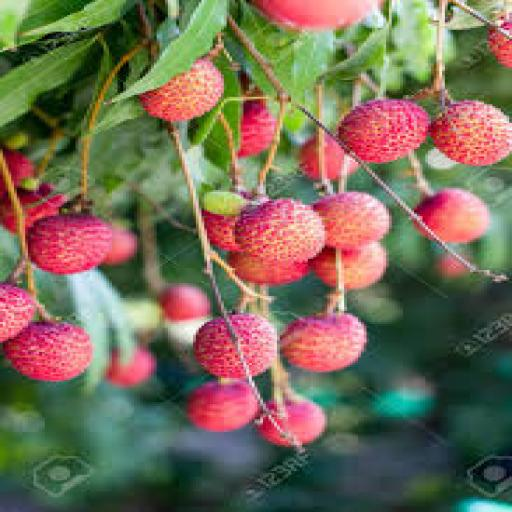lychee: (339, 99, 430, 161), (236, 200, 324, 262), (194, 313, 276, 379), (140, 58, 223, 121), (3, 323, 92, 381), (431, 101, 511, 165), (280, 313, 366, 372), (28, 215, 111, 273), (314, 192, 391, 249), (252, 0, 380, 31), (417, 189, 489, 243), (188, 380, 260, 431), (258, 399, 327, 446), (300, 136, 358, 180), (230, 254, 307, 286), (17, 185, 67, 229), (238, 101, 276, 158), (0, 283, 36, 342), (342, 243, 386, 288), (107, 347, 156, 387), (160, 283, 209, 322), (202, 211, 240, 251), (104, 228, 137, 266), (3, 149, 36, 184), (202, 190, 246, 215), (490, 28, 511, 67), (437, 256, 470, 277)
